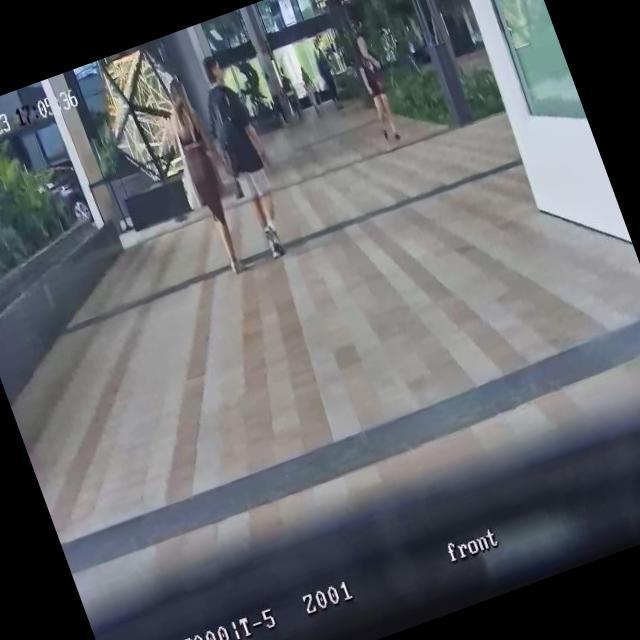person: (185, 46, 302, 264), (163, 93, 260, 280), (347, 31, 407, 144), (311, 44, 346, 110), (262, 71, 289, 127), (296, 64, 324, 118), (276, 68, 304, 121)
